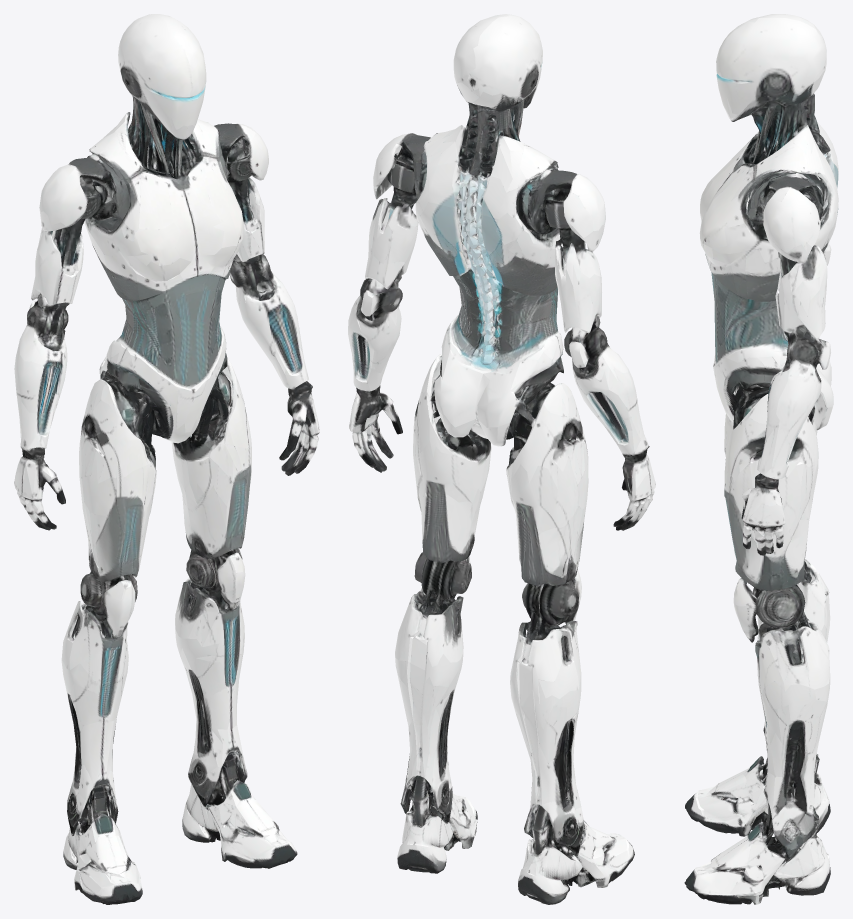
Rendered from ai-assistant.glb.
The picture shows the model from 3 angles, left to right: view 1: azimuth 30°, elevation 25°; view 2: azimuth 150°, elevation 25°; view 3: azimuth 270°, elevation 25°; orthographic projection.
Parts seen in each view (by area): view 1: Mesh_0; view 2: Mesh_0; view 3: Mesh_0.
Part boxes in pixels (bbox=[...]): Mesh_0: bbox=[14, 14, 319, 904]; Mesh_0: bbox=[348, 14, 655, 904]; Mesh_0: bbox=[684, 14, 838, 904].
Bounding box in the file's own units: 0.6921 × 1.9 × 0.3157.
Materials: 1 (1 with a texture image).
